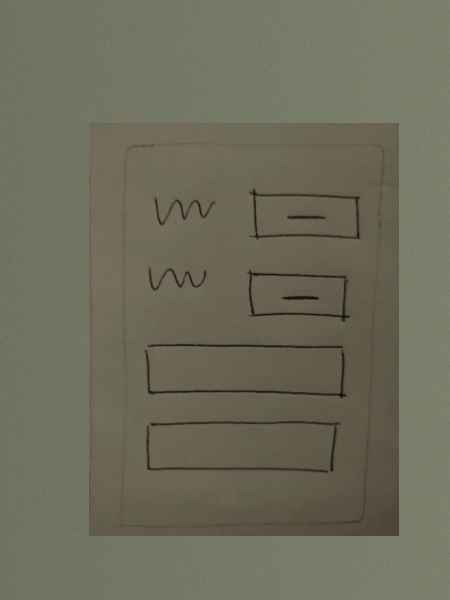button: (245, 185, 365, 248), (243, 266, 356, 325)
text: (147, 191, 218, 230), (145, 261, 209, 297)
text_input: (140, 339, 350, 402), (139, 417, 343, 479)
